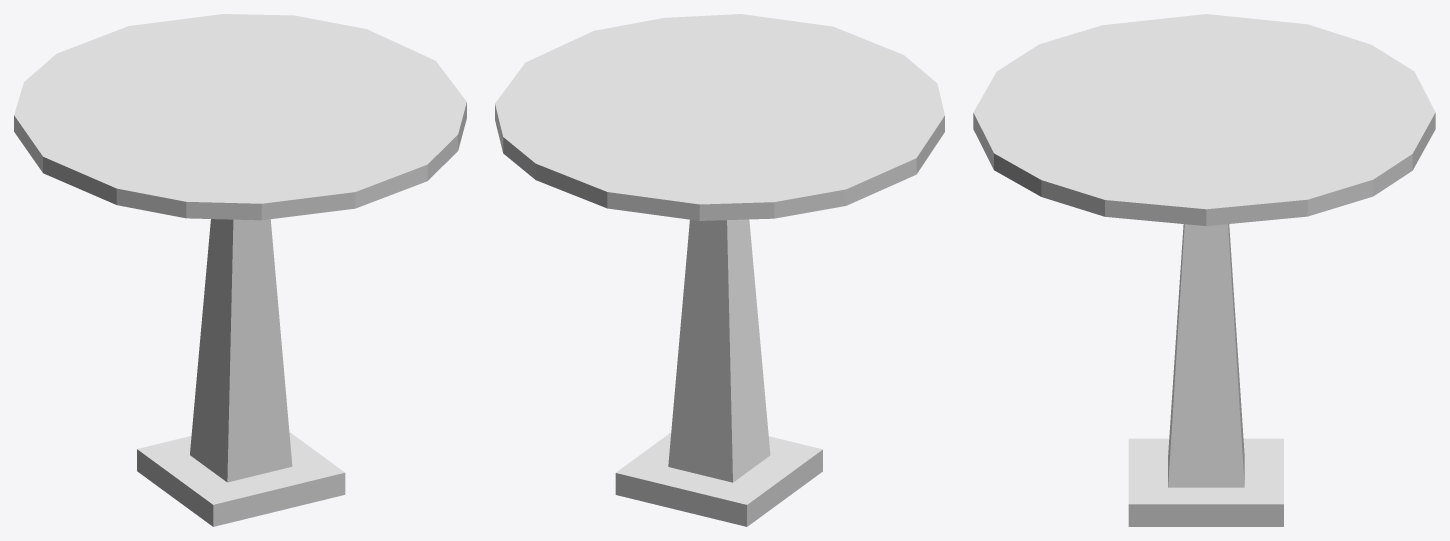
Rendered from dprop_roundTable.fbx.
3 renders of one model, left to right at view 1: azimuth 30°, elevation 25°; view 2: azimuth 150°, elevation 25°; view 3: azimuth 270°, elevation 25°, orthographic. The views are drawn at different scales.
Visible parts, largest first — view 1: roundTable; view 2: roundTable; view 3: roundTable.
Part boxes in pixels (x1,y1,x2,y2): roundTable: [14, 14, 466, 526]; roundTable: [495, 14, 944, 526]; roundTable: [973, 14, 1435, 526].
Bounding box in the file's own units: 74.38 × 74.39 × 67.79.
